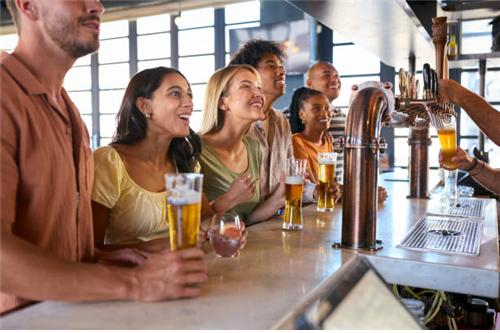alcohol: (164, 171, 201, 254), (281, 160, 307, 232), (208, 215, 245, 261), (436, 110, 462, 171), (317, 153, 336, 212)
